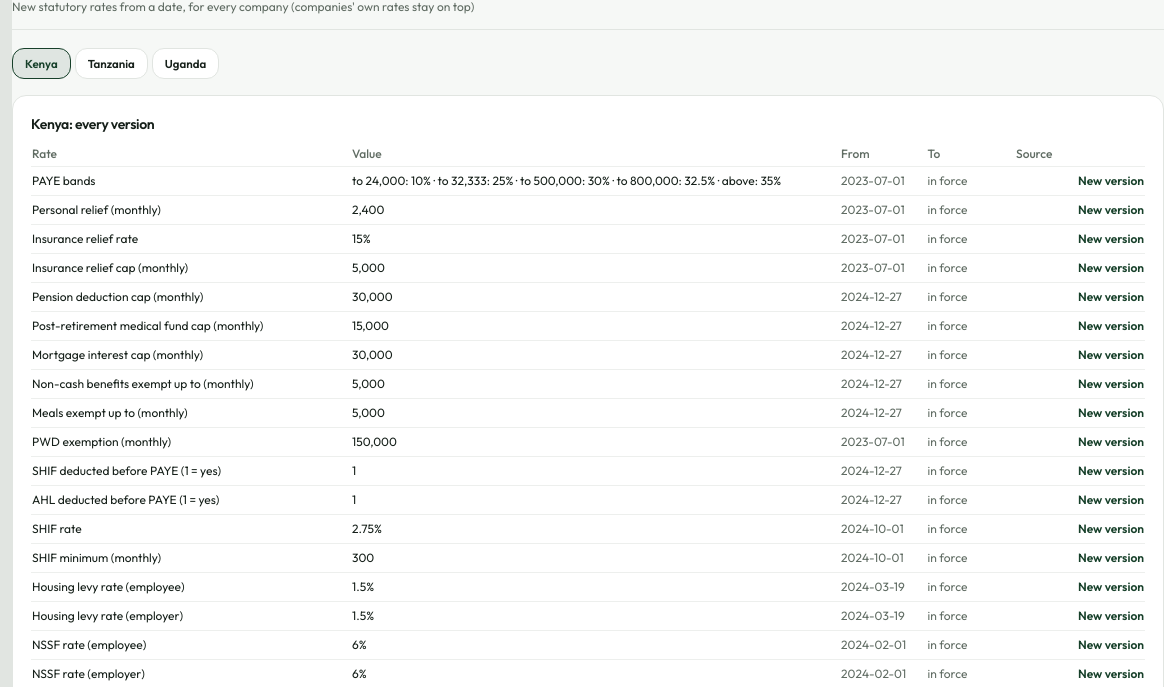
Test: the platform rates screen › refuses bands that do not go up and rates above 100%
Click the button "New version" in the row of "PAYE bands".
click(1111, 181)  # box [1078,173,1144,189]
(page scrolled)
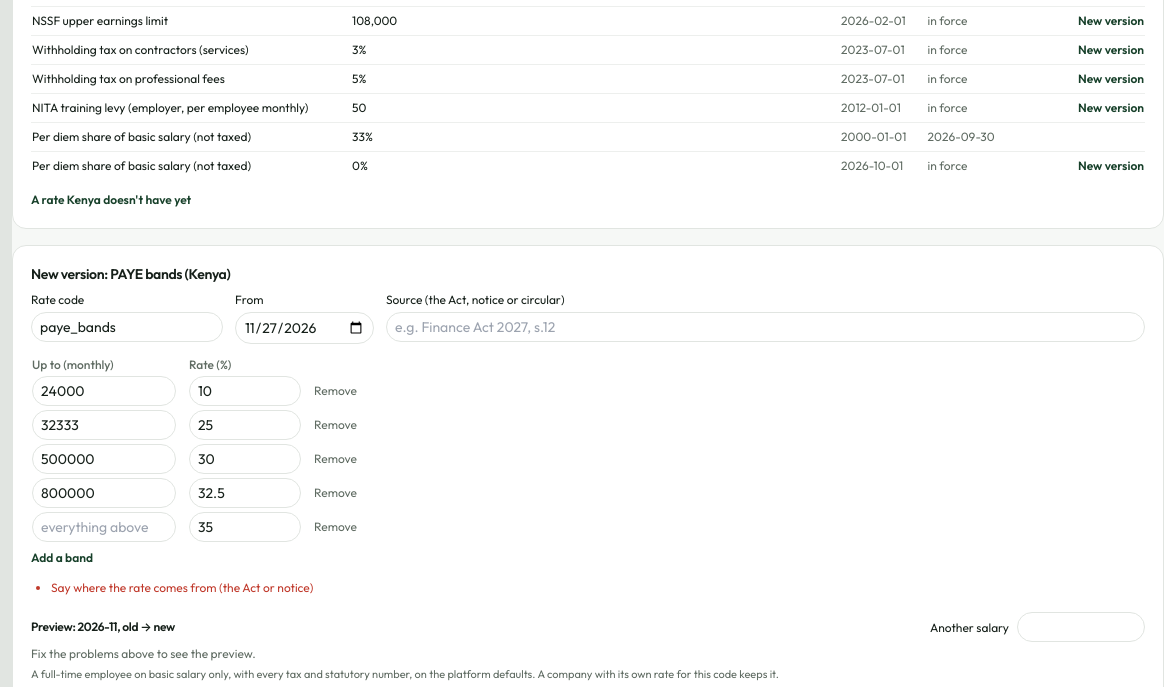
Type "Finance Act 2027" into the field labelled "Source".
click(766, 327); type("Finance Act 2027")  # box [386,312,1145,342]
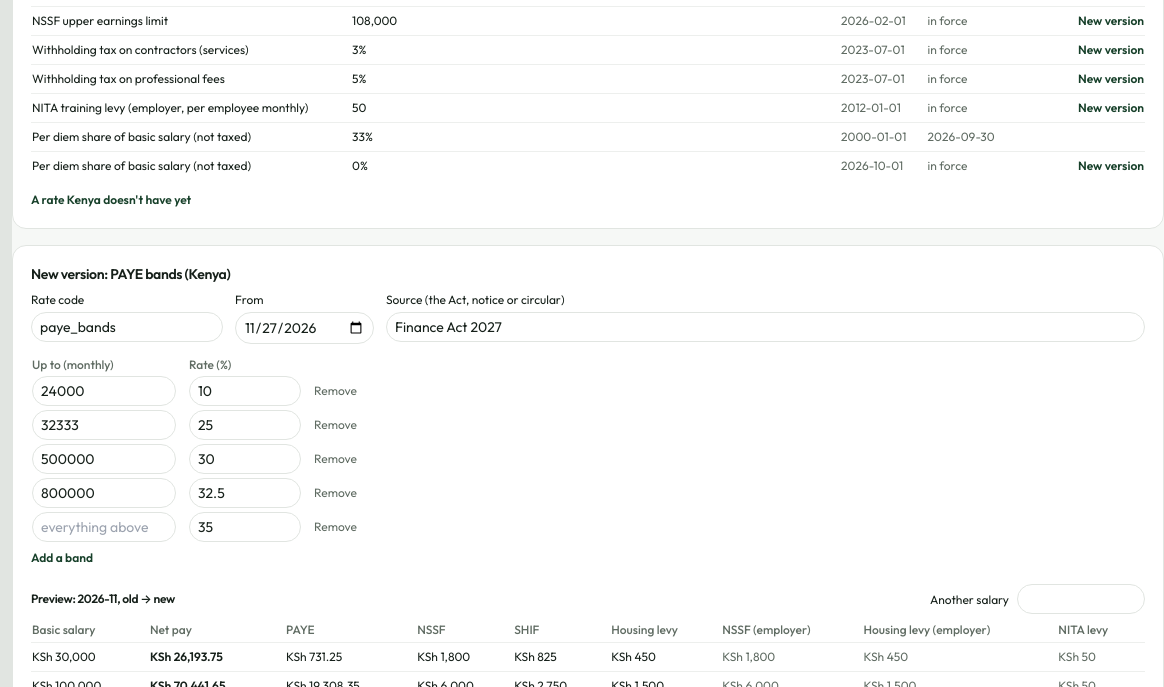
Replace the text in the number field named "Band 2 up to" with "1000" at (104, 425), box [32,410,176,440]
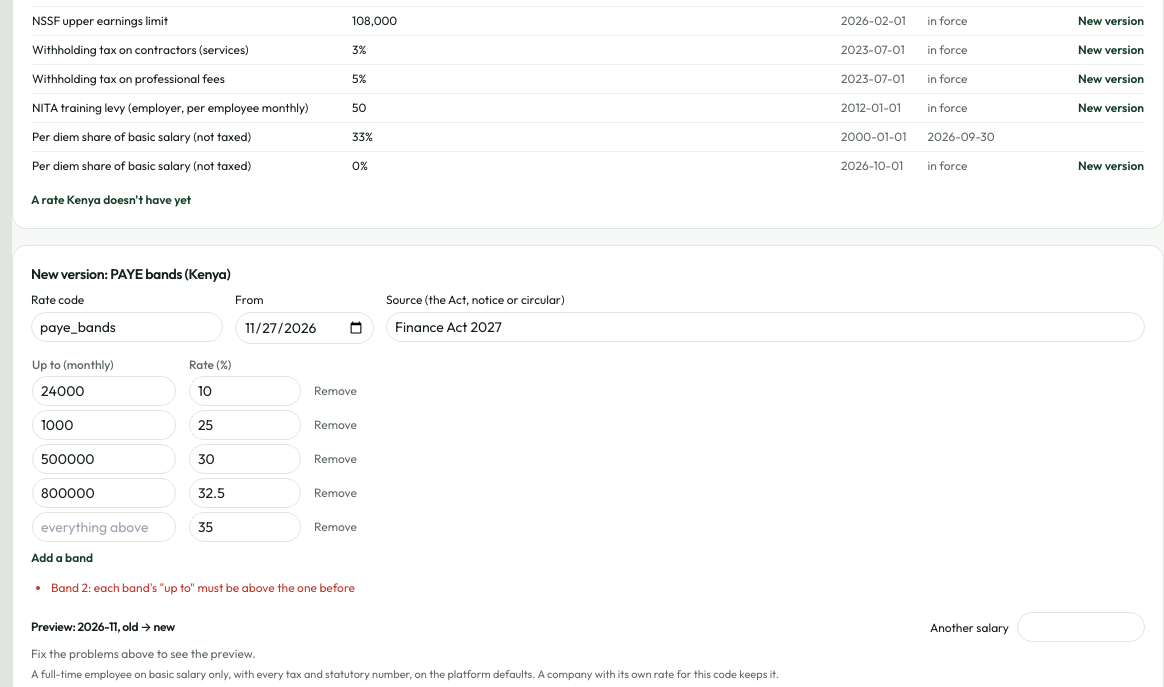
Expected: the list item "Band 2: each band's \"up to\" must be above the one before" is shown, [51,580,355,595]
Replace the text in the number field named "Band 2 up to" with "32333" at (104, 425), box [32,410,176,440]
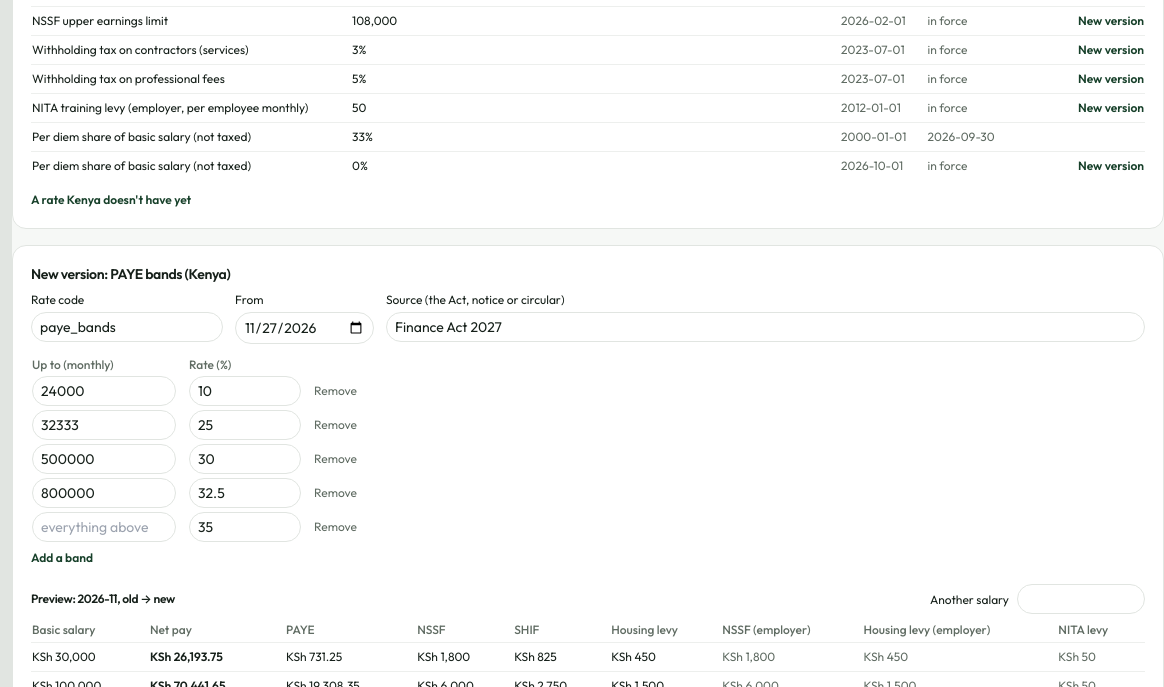
Replace the text in the number field named "Band 1 rate" with "150" at (245, 391), box [189,376,301,406]
(page scrolled)
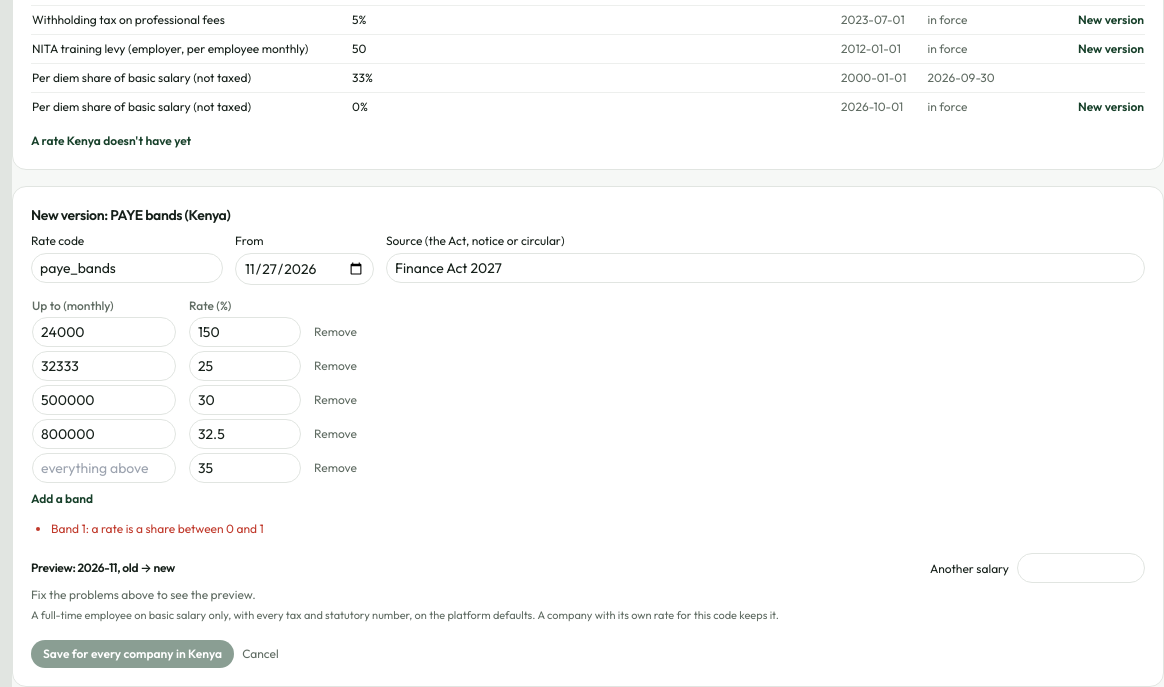
Expected: the list item "Band 1: a rate is a share between 0 and 1" is shown, [51,521,264,536]
Expected: the button "Save for every company in Kenya" is disabled, [31,640,234,668]
